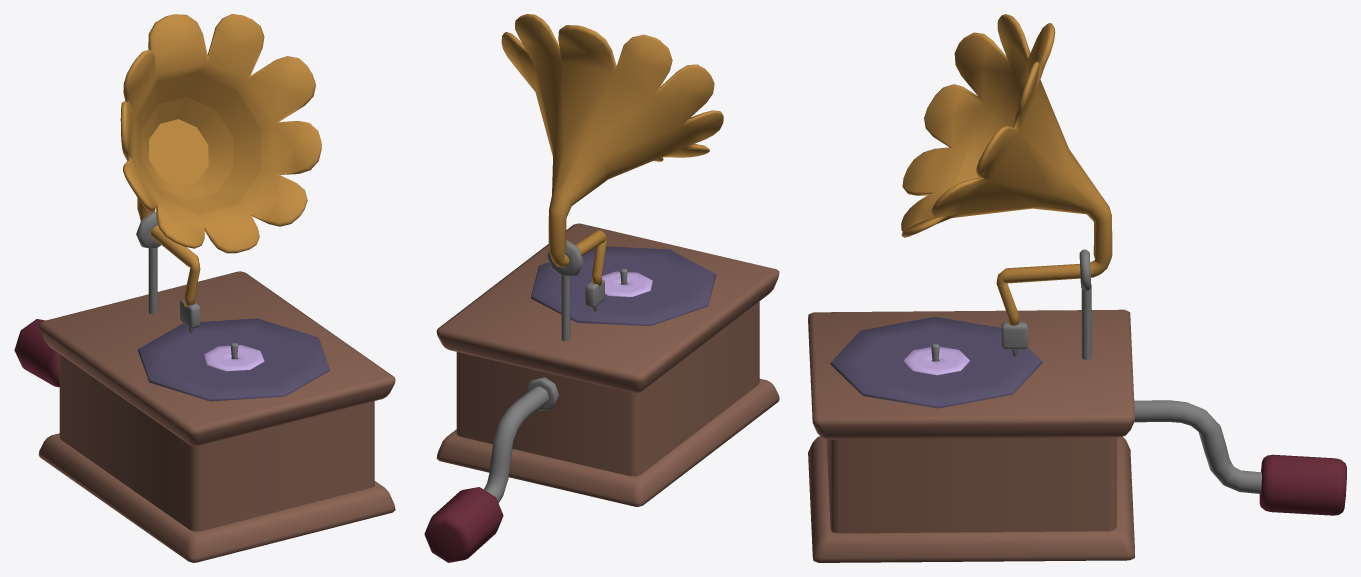
The model's file is props_phonograph.fbx.
3 views of the same model, side by side, from view 1: azimuth 30°, elevation 25°; view 2: azimuth 150°, elevation 25°; view 3: azimuth 270°, elevation 25° (orthographic). The views are drawn at different scales.
Parts seen in each view (by area): view 1: Cylinder.103; view 2: Cylinder.103; view 3: Cylinder.103.
Boxes of the visible parts, bbox=[...] form: Cylinder.103: bbox=[14, 14, 395, 562]; Cylinder.103: bbox=[424, 14, 779, 562]; Cylinder.103: bbox=[808, 14, 1346, 562].
Size of the model in its own units: 0.6889 by 1.4 by 1.39.
